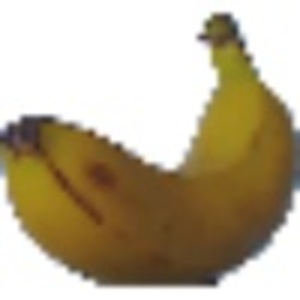banana: (6, 9, 297, 289)
